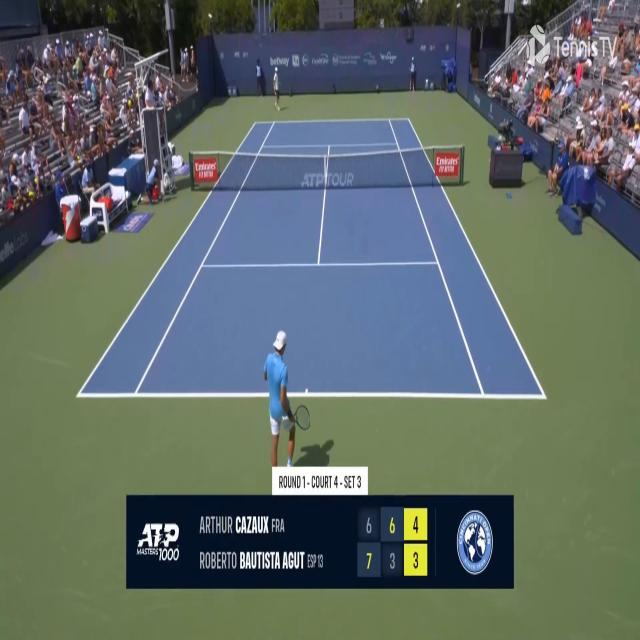tennis-player: (262, 326, 309, 467), (272, 66, 282, 111)
